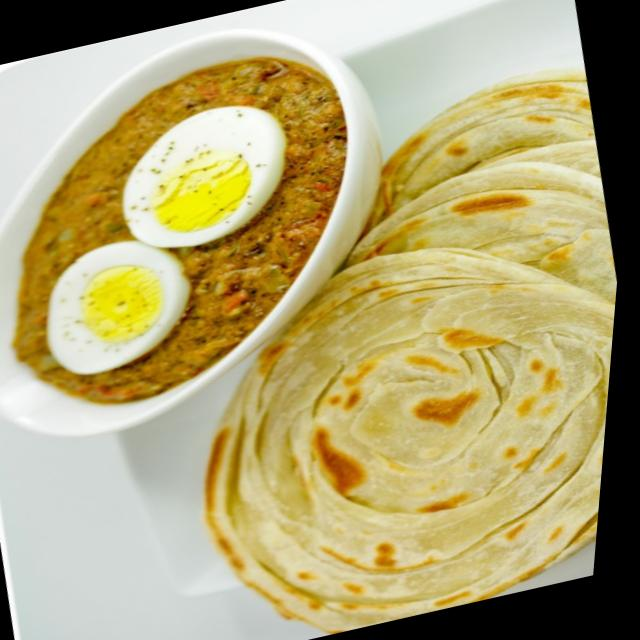CURRY: (3, 54, 342, 404)
PAROTTA: (198, 74, 616, 634)
